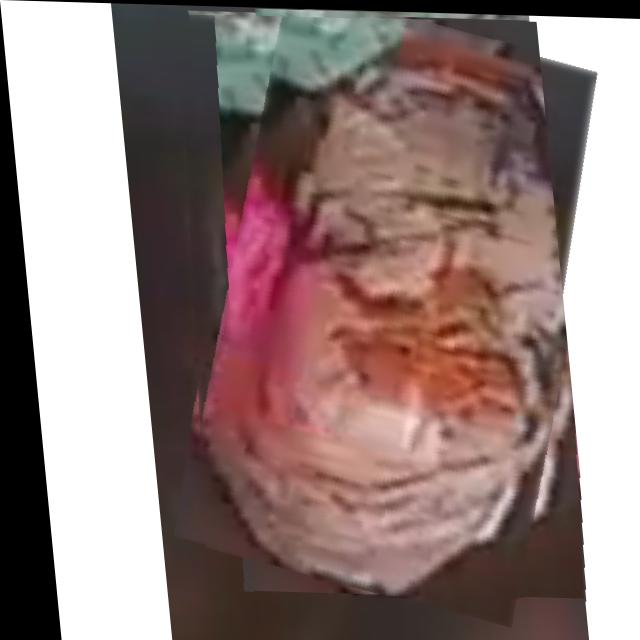other_trashbag: (189, 16, 558, 594)
